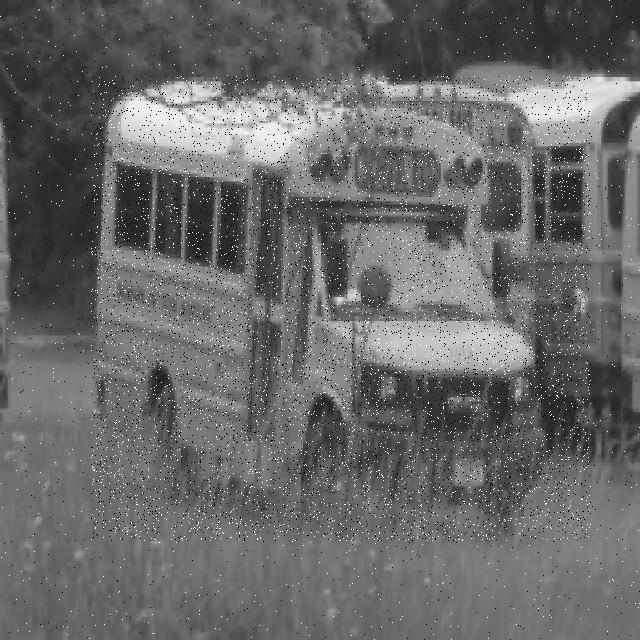Bus- Small: (91, 76, 591, 541)
